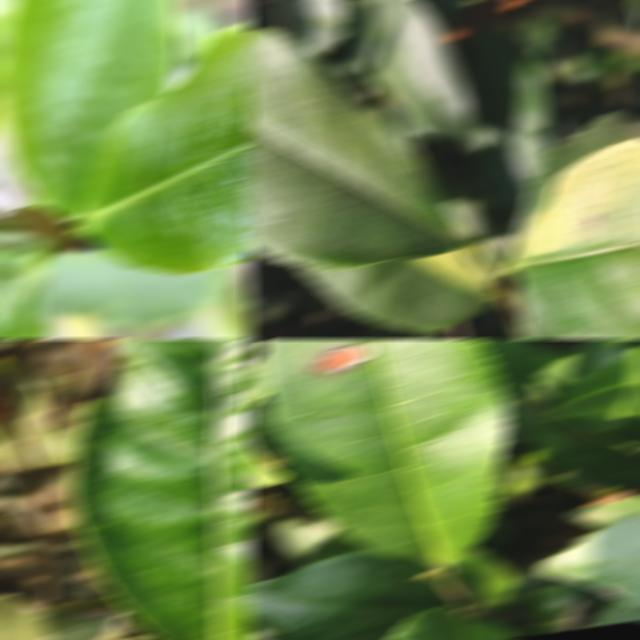Leaf: (259, 340, 510, 564), (70, 340, 252, 640), (246, 30, 466, 267), (76, 21, 252, 272), (1, 0, 181, 216), (505, 138, 640, 338), (349, 0, 478, 148), (246, 550, 457, 640), (299, 248, 506, 331), (460, 30, 552, 212), (514, 112, 640, 238), (41, 251, 235, 328), (537, 511, 640, 606), (526, 409, 640, 488), (0, 348, 56, 465), (550, 346, 640, 417), (0, 595, 126, 640), (384, 605, 519, 640), (446, 549, 521, 608), (277, 0, 350, 57), (475, 340, 538, 395), (516, 286, 580, 338), (0, 406, 28, 461)
